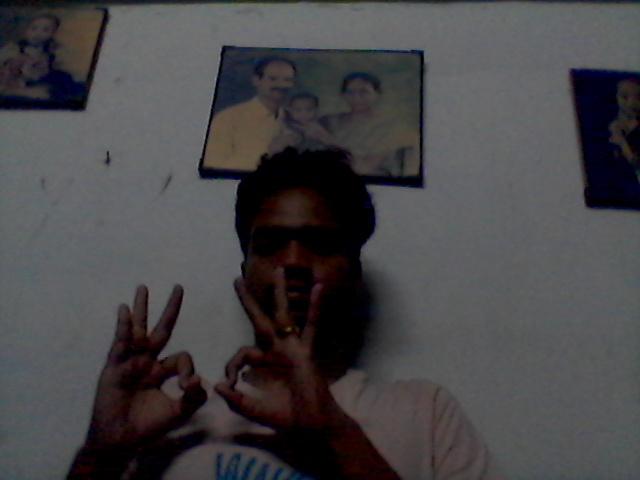How are you: (87, 266, 333, 452)
